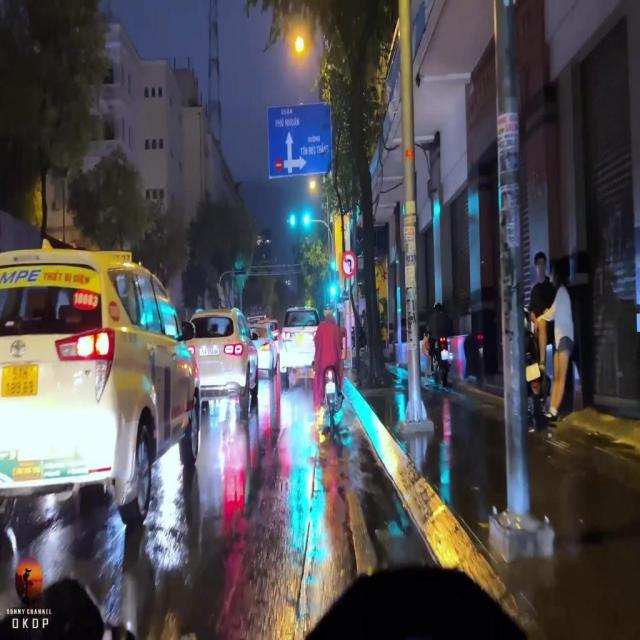cam_re_trai: (340, 251, 358, 280)
khac: (268, 102, 332, 180)
